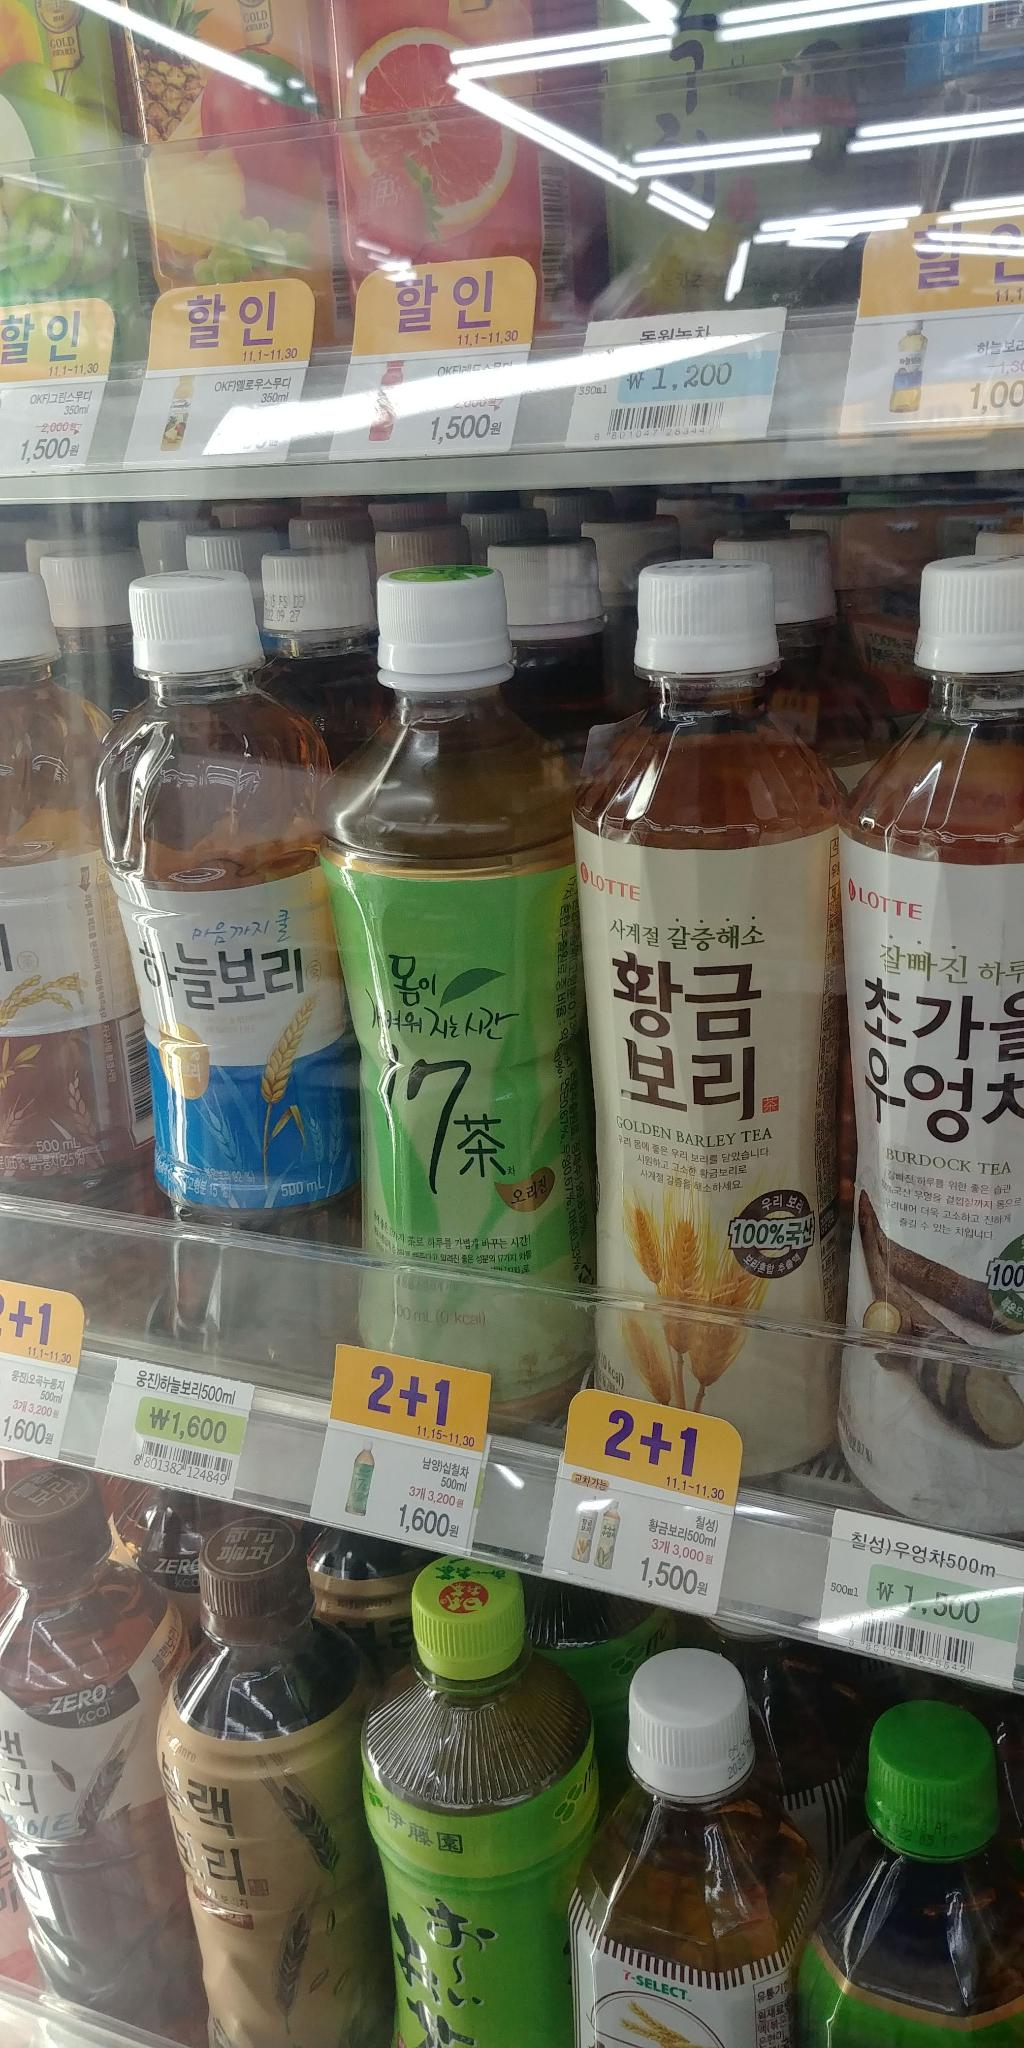haneulbori: (80, 560, 398, 1387)
